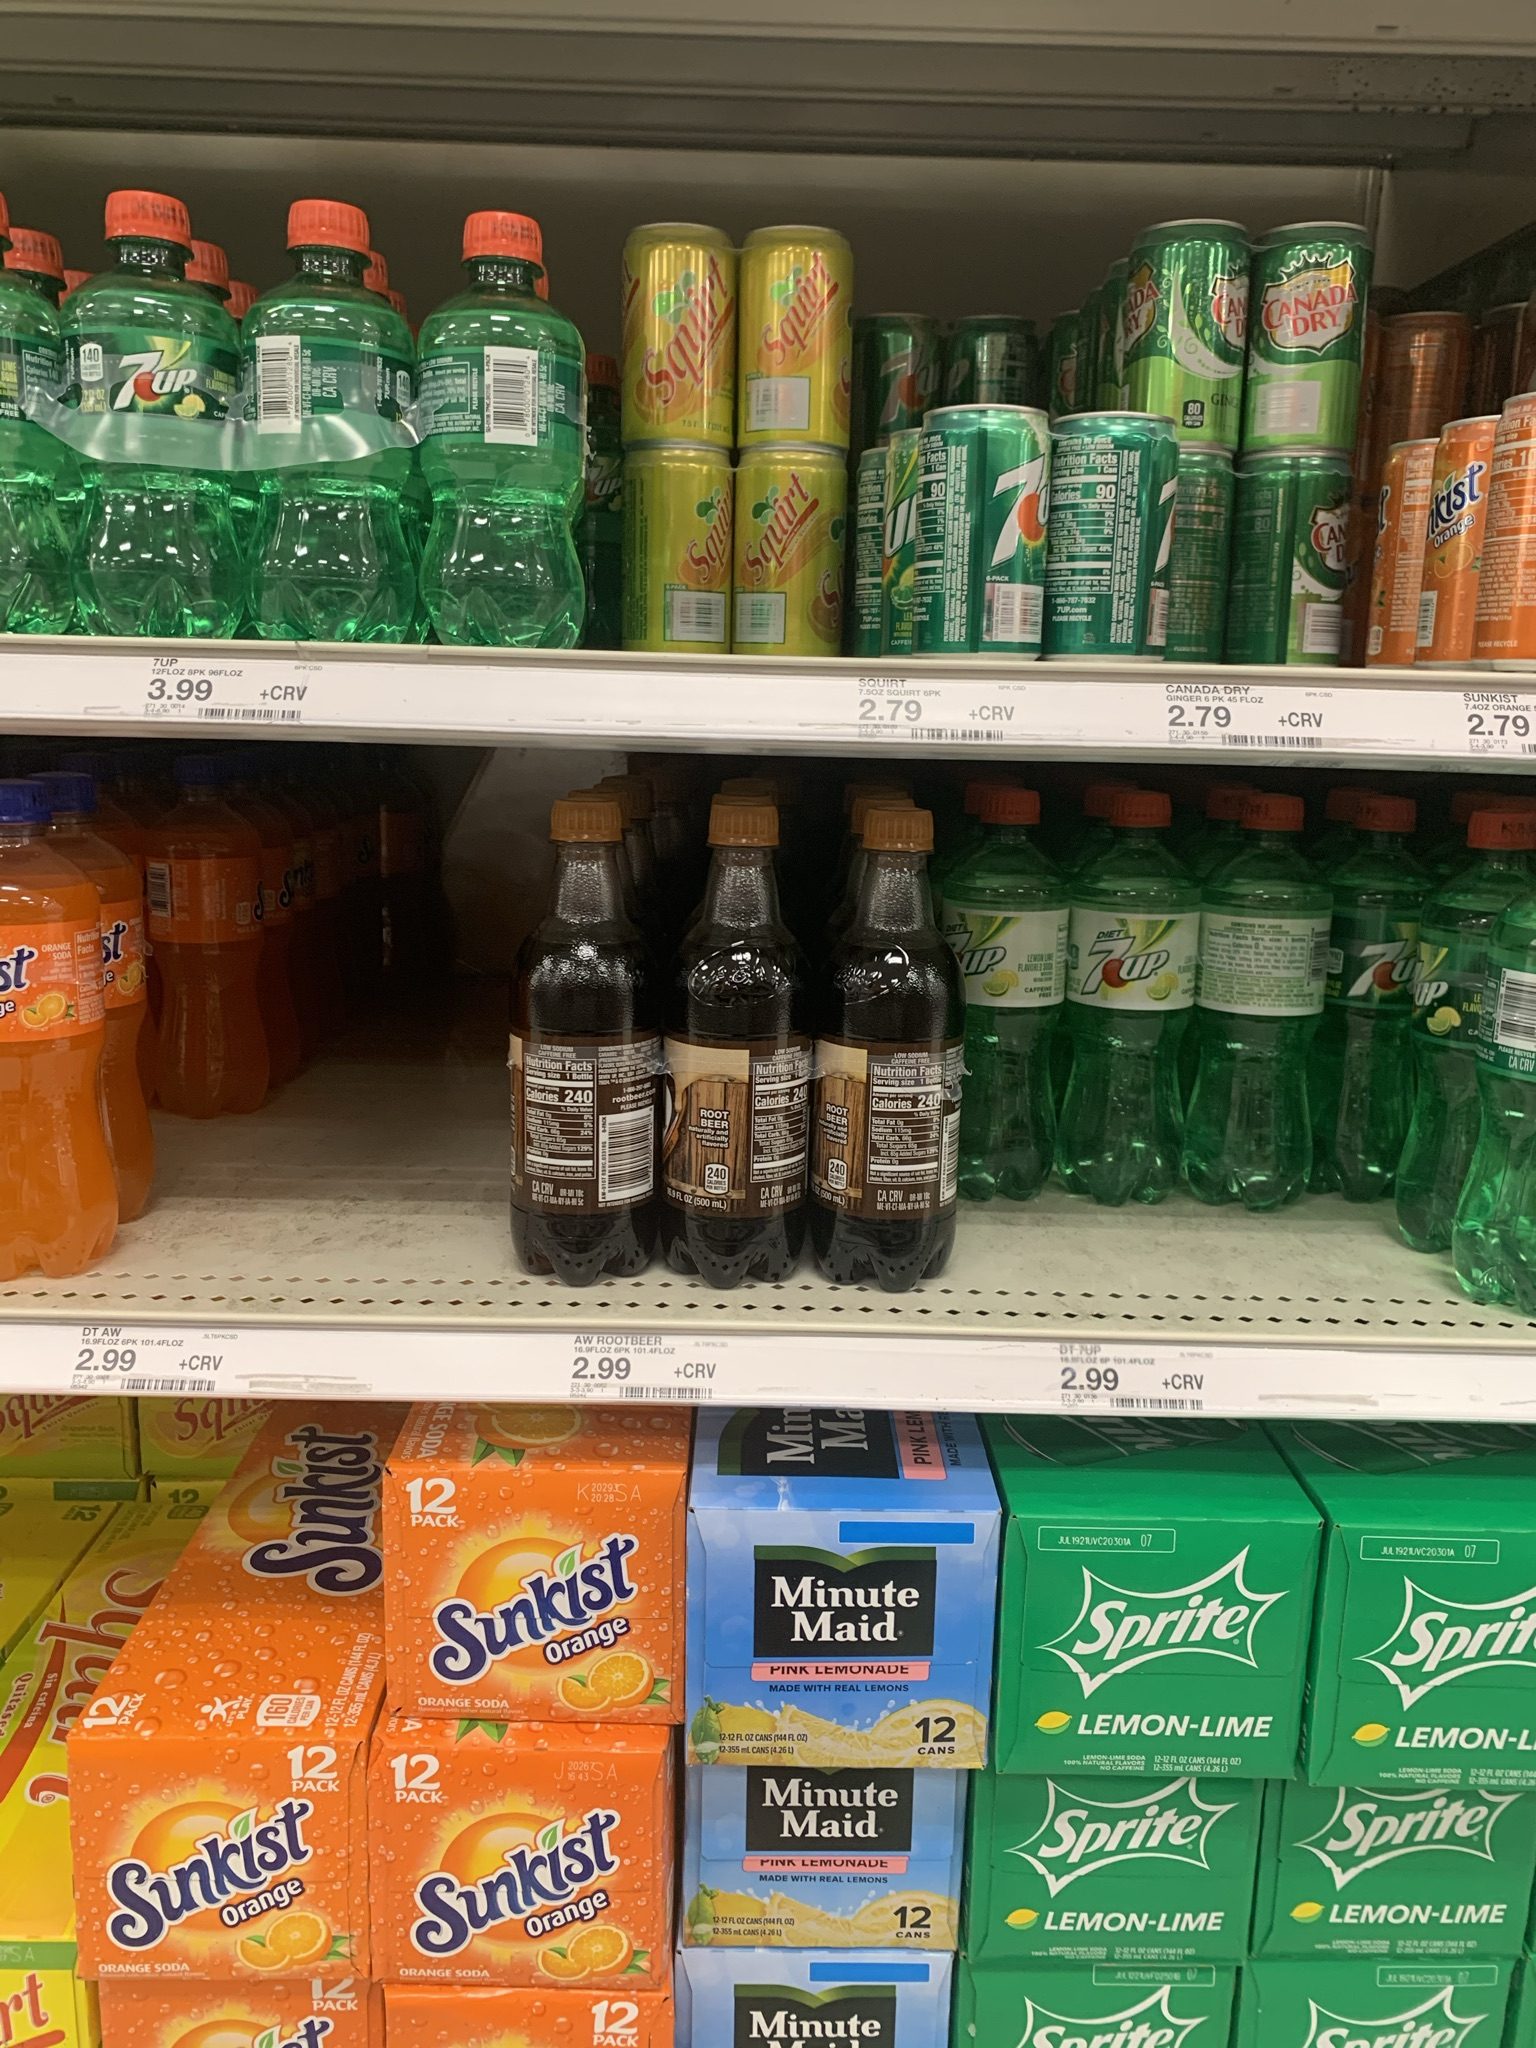Soda: (694, 1479, 997, 1766), (1007, 1511, 1317, 1775), (63, 182, 242, 634), (244, 190, 418, 640), (382, 1467, 682, 1725), (507, 793, 662, 1277), (424, 202, 594, 642), (69, 1730, 365, 1979), (821, 803, 970, 1288), (369, 1742, 665, 1985), (665, 798, 808, 1277), (981, 1775, 1254, 1967), (926, 397, 1055, 663), (1052, 411, 1175, 660), (623, 218, 736, 442), (741, 218, 854, 442), (1146, 214, 1255, 435), (1265, 223, 1367, 456), (737, 443, 849, 650), (626, 443, 734, 651)
